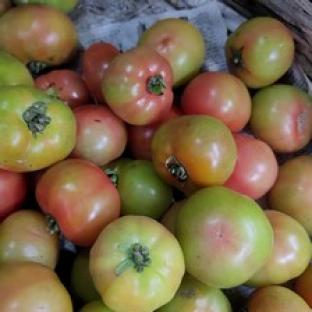Tomato: (176, 187, 272, 288), (90, 215, 185, 311), (35, 159, 119, 246), (152, 115, 236, 193), (0, 85, 76, 171), (102, 46, 174, 125), (0, 5, 79, 72), (247, 209, 311, 286), (225, 17, 295, 87), (138, 17, 206, 87), (250, 84, 311, 153), (180, 72, 250, 132), (223, 133, 278, 199), (0, 262, 73, 311), (0, 209, 58, 270), (268, 155, 311, 235), (72, 105, 128, 165), (117, 159, 172, 220), (127, 105, 182, 160), (158, 273, 232, 311), (81, 41, 119, 103), (35, 69, 90, 108), (70, 248, 100, 303), (247, 286, 310, 311), (0, 169, 27, 222), (0, 51, 34, 86), (161, 198, 185, 233), (293, 262, 311, 307), (78, 300, 112, 311)
